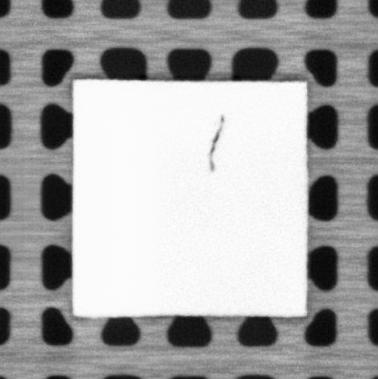DIE_INK: (208, 114, 226, 172)
